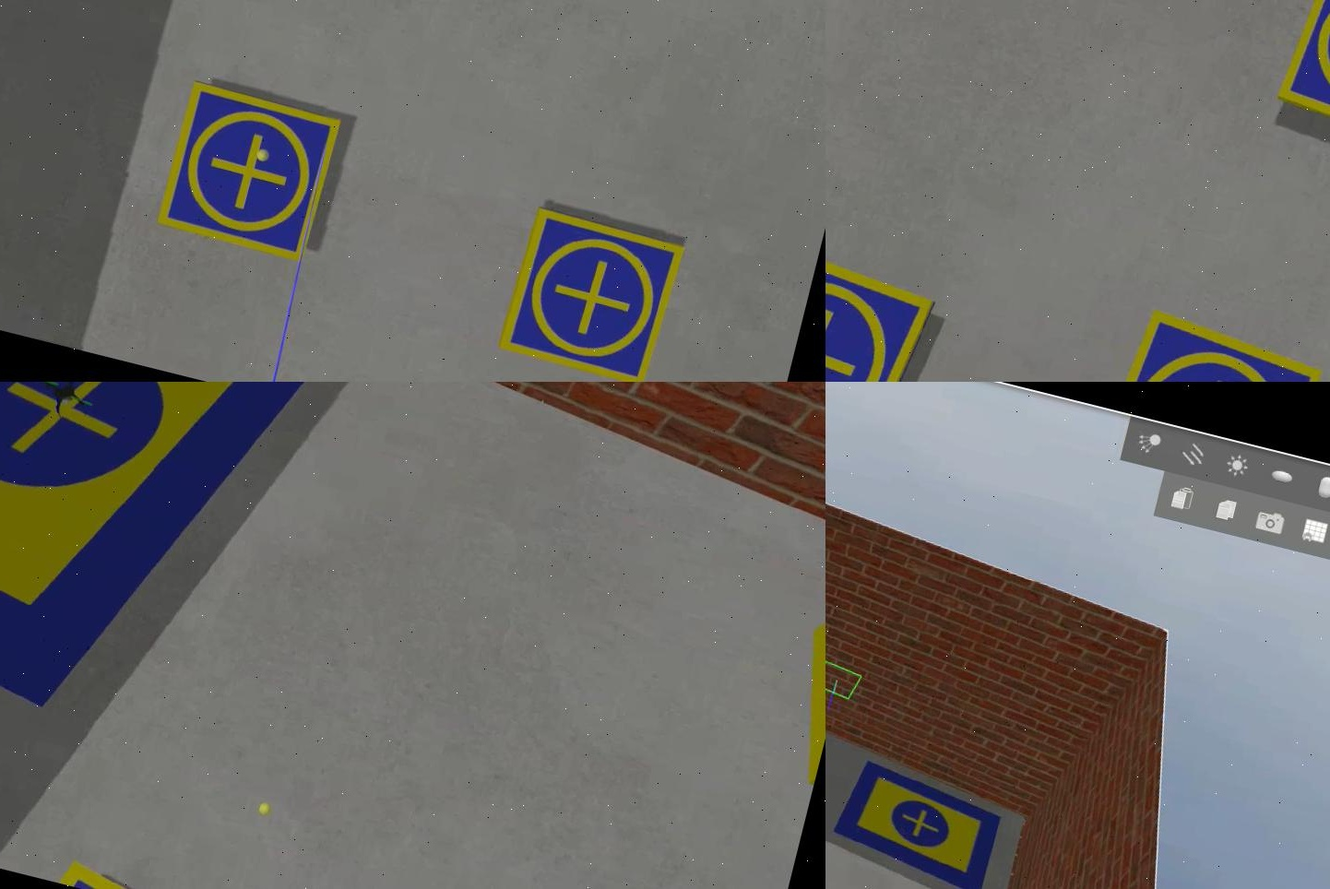large_base: (0, 382, 344, 754), (824, 757, 1003, 889)
small_base: (150, 78, 341, 266), (493, 204, 683, 382), (1079, 302, 1328, 382), (824, 227, 939, 382)
